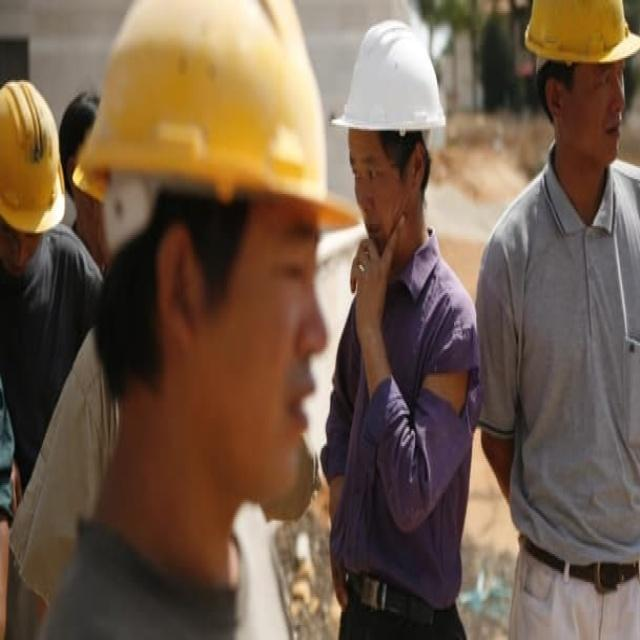helmet: (100, 4, 333, 640), (345, 26, 444, 322), (525, 4, 631, 223), (1, 101, 60, 358)
